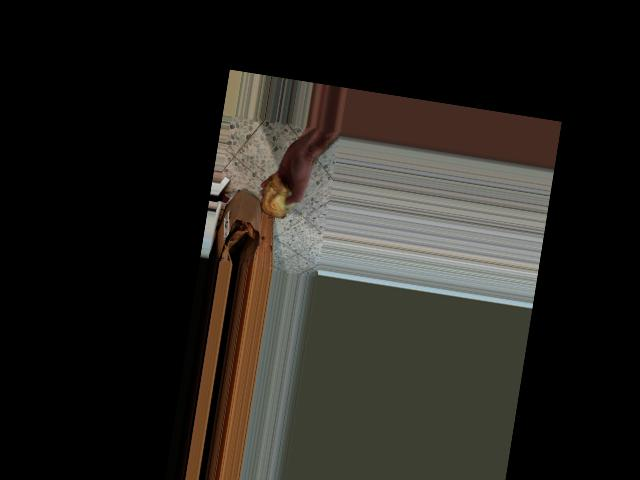onion: (258, 169, 300, 222)
